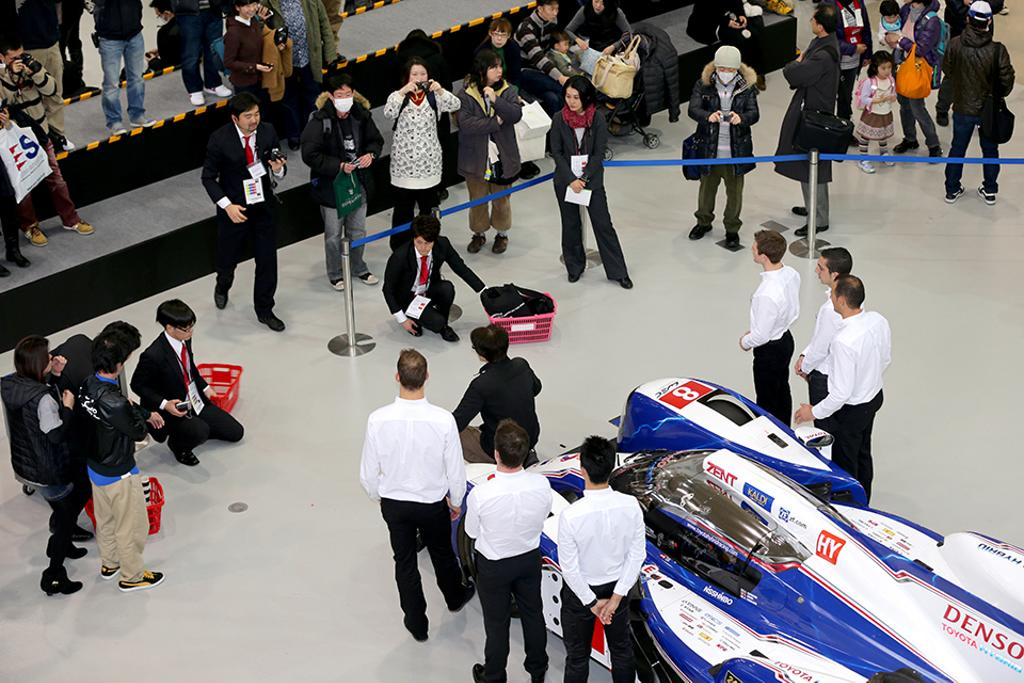face: (238, 111, 259, 130), (333, 89, 351, 111), (815, 259, 831, 283), (717, 64, 735, 84), (414, 236, 432, 254), (409, 68, 426, 87), (565, 90, 581, 110), (5, 50, 24, 66), (172, 325, 192, 340), (831, 287, 844, 310), (485, 64, 502, 81), (155, 9, 173, 25), (492, 28, 507, 47), (542, 3, 557, 20), (751, 243, 763, 262), (810, 15, 822, 34), (240, 3, 255, 16), (878, 63, 891, 77), (592, 1, 605, 13), (558, 40, 568, 53), (885, 15, 897, 22)
